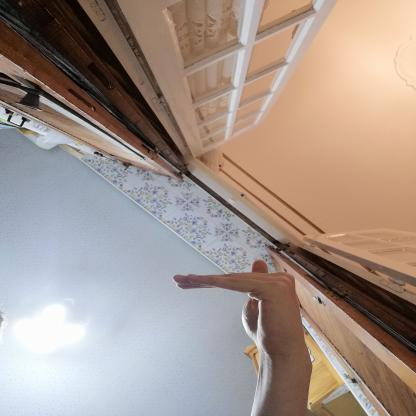KHAA: (164, 252, 312, 355)
